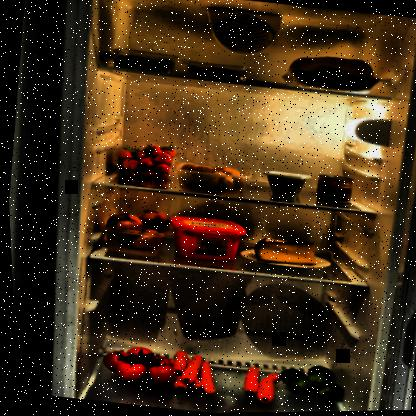blueberries: (113, 52, 174, 76)
butter: (164, 212, 247, 266)
carrot: (165, 349, 219, 396), (236, 365, 281, 405)
cheese: (251, 234, 319, 270)
chicken: (278, 49, 385, 100)
corn: (314, 172, 353, 207)
lime: (273, 360, 345, 405)
onion: (99, 203, 171, 254)
potato: (177, 159, 259, 200)
shrimp: (184, 62, 246, 85)
strawberries: (104, 138, 180, 188)
tomato: (96, 342, 177, 390)
